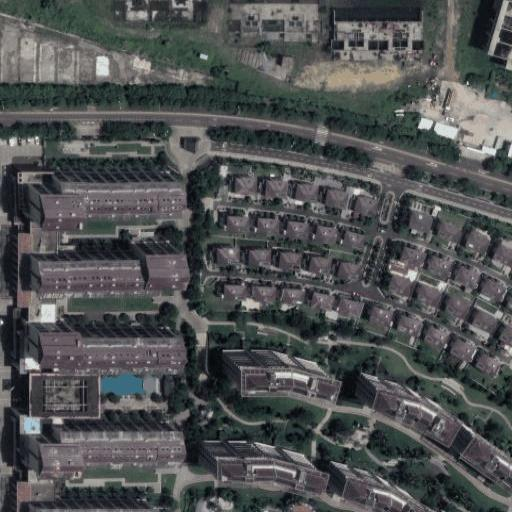building: (31, 163, 177, 212), (19, 426, 164, 475), (359, 374, 449, 433), (333, 462, 426, 512), (208, 441, 321, 479), (67, 320, 174, 359), (449, 419, 512, 485), (224, 353, 325, 393), (32, 242, 141, 278), (332, 19, 421, 59), (18, 357, 89, 407), (140, 241, 186, 275), (27, 320, 67, 356), (16, 503, 141, 512), (414, 283, 444, 310), (443, 294, 472, 320), (470, 309, 498, 335), (464, 228, 492, 254), (189, 495, 230, 512), (454, 266, 481, 291), (428, 256, 456, 280), (492, 240, 512, 273), (405, 211, 433, 234), (480, 278, 506, 302), (476, 354, 503, 377), (435, 220, 461, 243), (426, 327, 451, 350), (337, 299, 364, 320), (450, 339, 475, 361), (323, 188, 349, 209), (342, 231, 367, 252), (401, 247, 425, 268), (353, 196, 377, 217), (250, 287, 279, 304), (388, 274, 411, 295), (310, 292, 335, 311), (308, 257, 333, 276), (398, 316, 424, 334), (216, 248, 242, 266), (296, 184, 320, 203), (279, 252, 301, 272), (370, 307, 393, 326), (247, 249, 271, 267), (315, 226, 336, 246), (434, 122, 460, 138), (287, 222, 310, 240), (223, 284, 248, 300), (267, 180, 288, 199), (226, 215, 247, 234), (257, 218, 281, 234), (284, 288, 306, 305), (234, 178, 257, 194), (497, 324, 512, 348), (339, 263, 360, 279)
